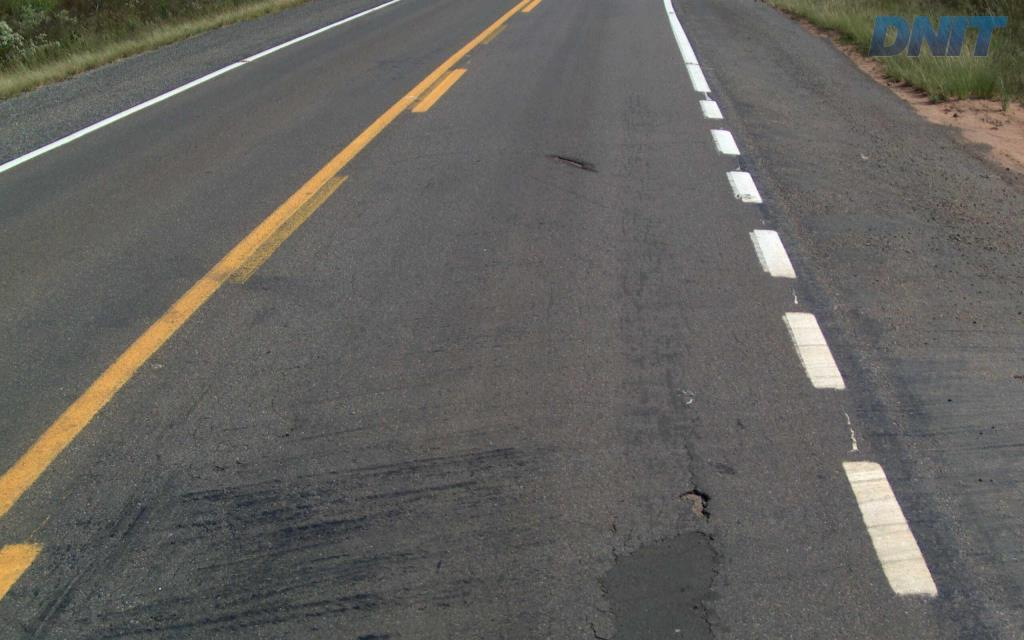pothole: (675, 480, 711, 521)
